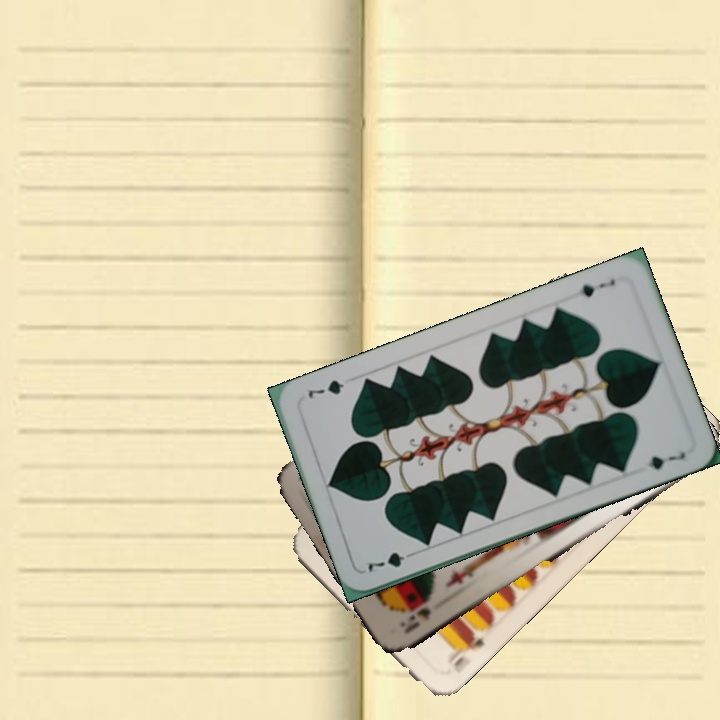E10: (443, 627, 487, 669)
G7: (363, 547, 419, 575), (576, 274, 618, 300)
SK: (395, 603, 433, 637)
